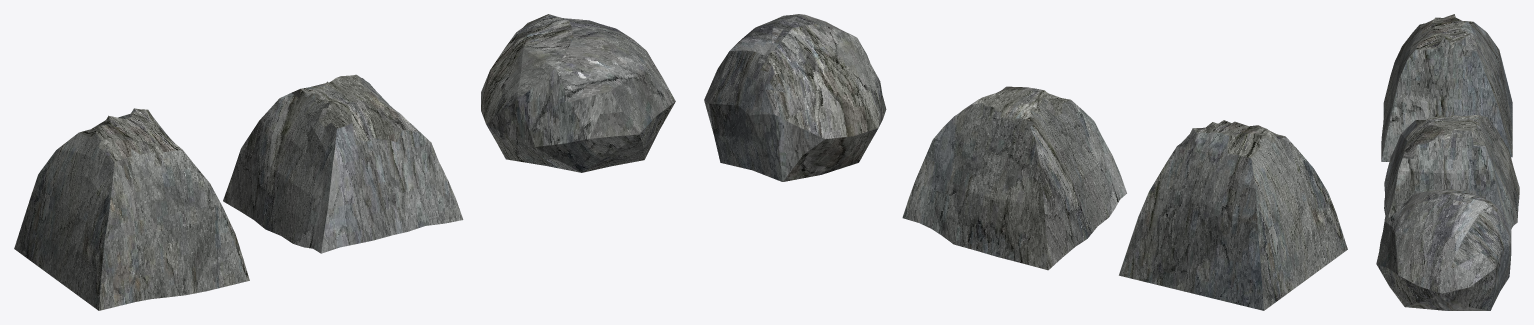
The model's file is rocky.glb.
3 renders of one model, left to right at view 1: azimuth 30°, elevation 25°; view 2: azimuth 150°, elevation 25°; view 3: azimuth 270°, elevation 25°, orthographic. The views are drawn at different scales.
Visible parts, largest first — view 1: Cube, Cube.001, Icosphere; view 2: Cube, Cube.001, Icosphere; view 3: Icosphere, Cube, Cube.001.
Boxes of the visible parts, left/top/right/bottom form: Cube: left=14, top=108, right=249, bottom=310; Cube.001: left=223, top=74, right=463, bottom=253; Icosphere: left=481, top=14, right=675, bottom=172; Cube: left=1119, top=120, right=1347, bottom=310; Cube.001: left=902, top=86, right=1126, bottom=270; Icosphere: left=704, top=14, right=886, bottom=181; Icosphere: left=1376, top=189, right=1511, bottom=310; Cube: left=1381, top=14, right=1512, bottom=161; Cube.001: left=1384, top=114, right=1519, bottom=228.
Bounding box in the file's own units: 8.24 × 1.96 × 2.22.
Materials: 1 (1 with a texture image).
